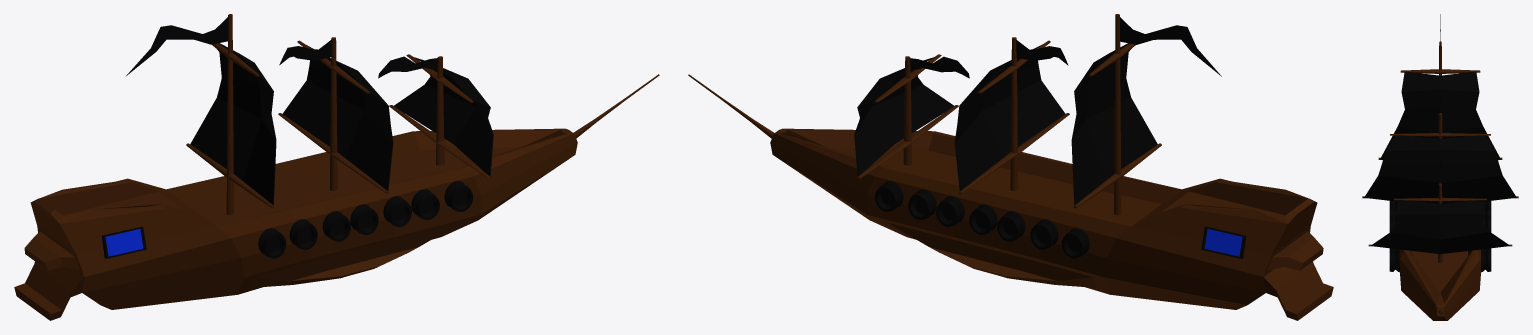
The model's file is SpeedShip.obj.
The picture shows the model from 3 angles, left to right: view 1: azimuth 30°, elevation 25°; view 2: azimuth 150°, elevation 25°; view 3: azimuth 270°, elevation 25°; orthographic projection. The views are drawn at different scales.
Visible parts, largest first — view 1: corpus, Plane.004, Plane, Plane.002, Balka1.001, Plane.001, okno, Balka1.003, Balka1.002, Cylinder.007, Cylinder.001, Cylinder.003 (+9 smaller); view 2: corpus, Plane.004, Plane, Plane.002, Balka1.001, Plane.001, okno.001, Balka1.003, Balka1.002, Cylinder.008, Cylinder.009, Cylinder.010 (+9 smaller); view 3: Plane.004, Plane.002, Plane, corpus, Balka2.005, Balka2.001, Balka2.003, Cylinder.007, Cylinder.008.
Boxes of the visible parts, x1,y1,x2,y2 form: corpus: [14, 128, 577, 320]; Plane.004: [282, 45, 393, 190]; Plane: [190, 43, 276, 205]; Plane.002: [394, 57, 493, 176]; Balka1.001: [226, 14, 233, 215]; Plane.001: [126, 17, 228, 75]; okno: [101, 226, 146, 258]; Balka1.003: [329, 37, 337, 191]; Balka1.002: [436, 56, 444, 165]; Cylinder.007: [444, 181, 473, 211]; Cylinder.001: [411, 189, 439, 219]; Cylinder.003: [350, 204, 378, 234]; corpus: [770, 128, 1333, 320]; Plane.004: [954, 45, 1065, 190]; Plane: [1071, 43, 1157, 205]; Plane.002: [854, 57, 953, 176]; Balka1.001: [1114, 14, 1121, 215]; Plane.001: [1120, 17, 1221, 76]; okno.001: [1201, 226, 1246, 258]; Balka1.003: [1010, 37, 1018, 191]; Balka1.002: [903, 56, 912, 165]; Cylinder.008: [875, 181, 903, 211]; Cylinder.009: [908, 189, 936, 220]; Cylinder.010: [936, 196, 964, 226]; Plane.004: [1364, 135, 1516, 203]; Plane.002: [1371, 200, 1509, 254]; Plane: [1380, 71, 1500, 159]; corpus: [1400, 249, 1480, 320]; Balka2.005: [1390, 133, 1490, 136]; Balka2.001: [1400, 69, 1480, 73]; Balka2.003: [1394, 197, 1486, 201]; Cylinder.007: [1389, 251, 1399, 272]; Cylinder.008: [1481, 251, 1491, 272].
Size of the model in its own units: 14.83 by 6.34 by 4.43.
